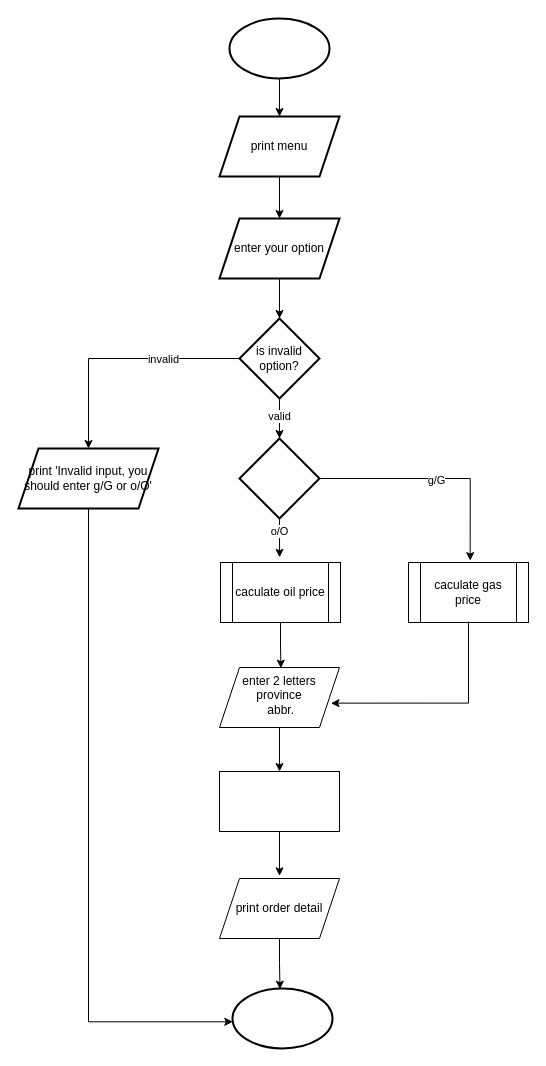
Image size: 546x1066. Some labels were removed from this diagram. The centre of each missing label's shape, as x and y in pixels:
"calculate GST and Total Price" goes at point (279, 801).
"End" goes at point (282, 1018).
"start" goes at point (279, 48).
"which option?" goes at point (279, 478).
